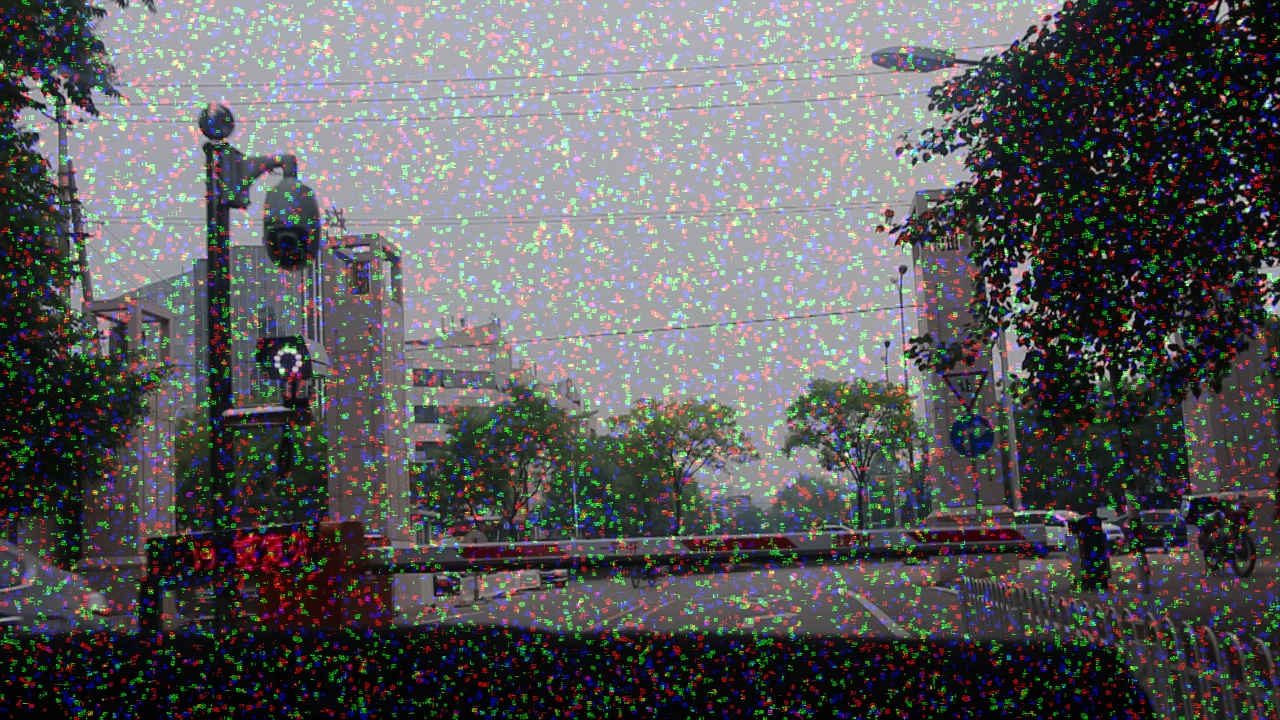Informative Signs: (948, 413, 996, 460)
Prohibitory Signs: (942, 368, 989, 411)
